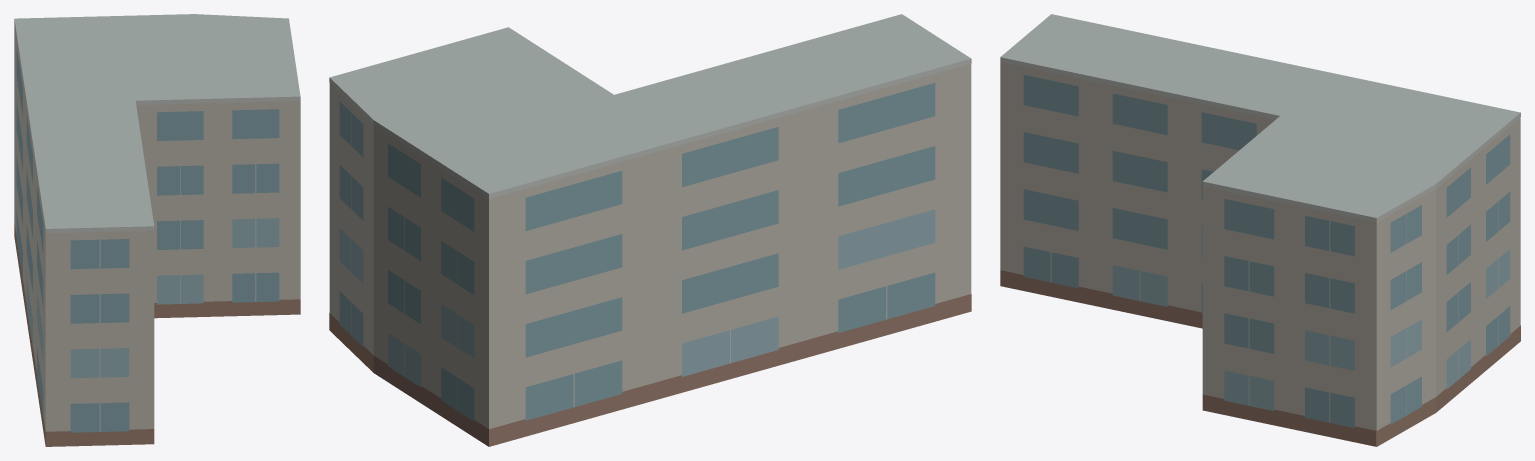
The model's file is survey-upis-32723592.glb.
3 renders of one model, left to right at view 1: azimuth 30°, elevation 25°; view 2: azimuth 150°, elevation 25°; view 3: azimuth 270°, elevation 25°, orthographic. The views are drawn at different scales.
Parts seen in each view (by area): view 1: survey-upis-32723592.tmp; view 2: survey-upis-32723592.tmp; view 3: survey-upis-32723592.tmp.
Boxes of the visible parts, x1=… form: survey-upis-32723592.tmp: x1=14, y1=14, x2=300, y2=446; survey-upis-32723592.tmp: x1=329, y1=14, x2=971, y2=446; survey-upis-32723592.tmp: x1=1000, y1=14, x2=1520, y2=446.
Bounding box in the file's own units: 23.34 × 12.2 × 25.16.
